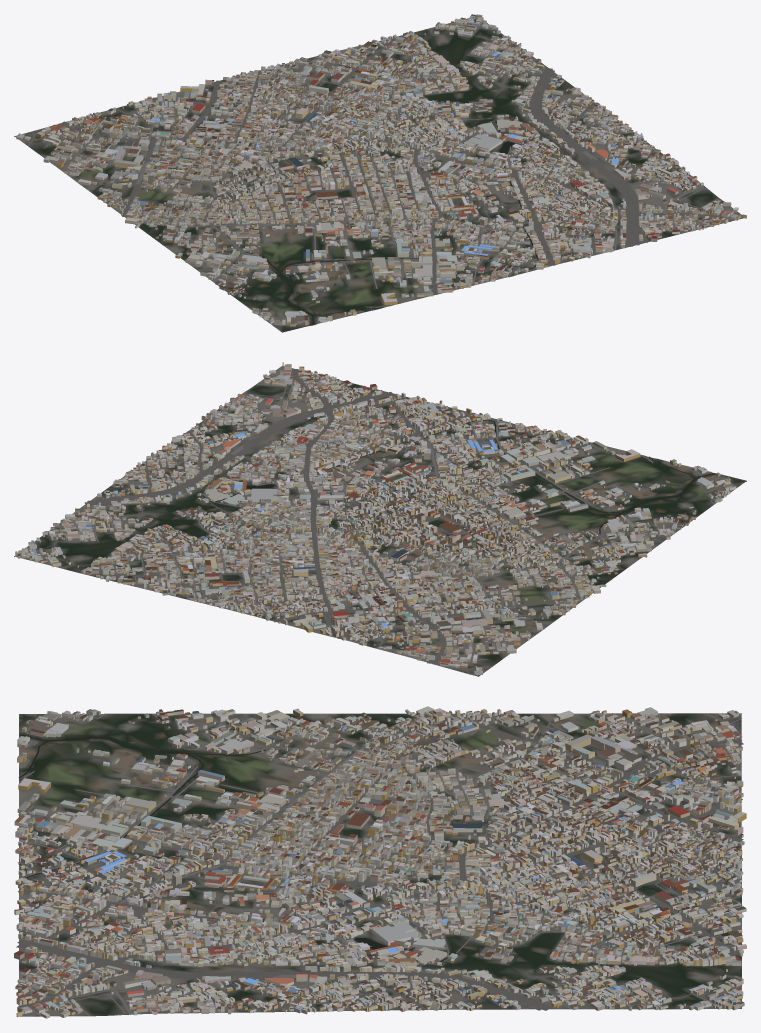
3 renders of one model, top to bottom at view 1: azimuth 30°, elevation 25°; view 2: azimuth 150°, elevation 25°; view 3: azimuth 270°, elevation 25°, orthographic. The views are drawn at different scales.
Parts seen in each view (by area): view 1: buildings, ground, roads, water; view 2: buildings, ground, roads, water; view 3: buildings, ground, roads, water.
Part boxes in pixels (x1,y1,x2,y2): buildings: (16, 14, 746, 326); ground: (14, 18, 743, 332); roads: (14, 21, 737, 325); water: (246, 118, 538, 324); buildings: (15, 362, 736, 674); ground: (14, 365, 746, 676); roads: (22, 369, 736, 676); water: (199, 420, 714, 534); buildings: (14, 706, 746, 1018); ground: (19, 713, 741, 1016); roads: (16, 713, 743, 1016); water: (18, 734, 450, 964).
Size of the model in its own units: 1426 by 38.36 by 1420.
